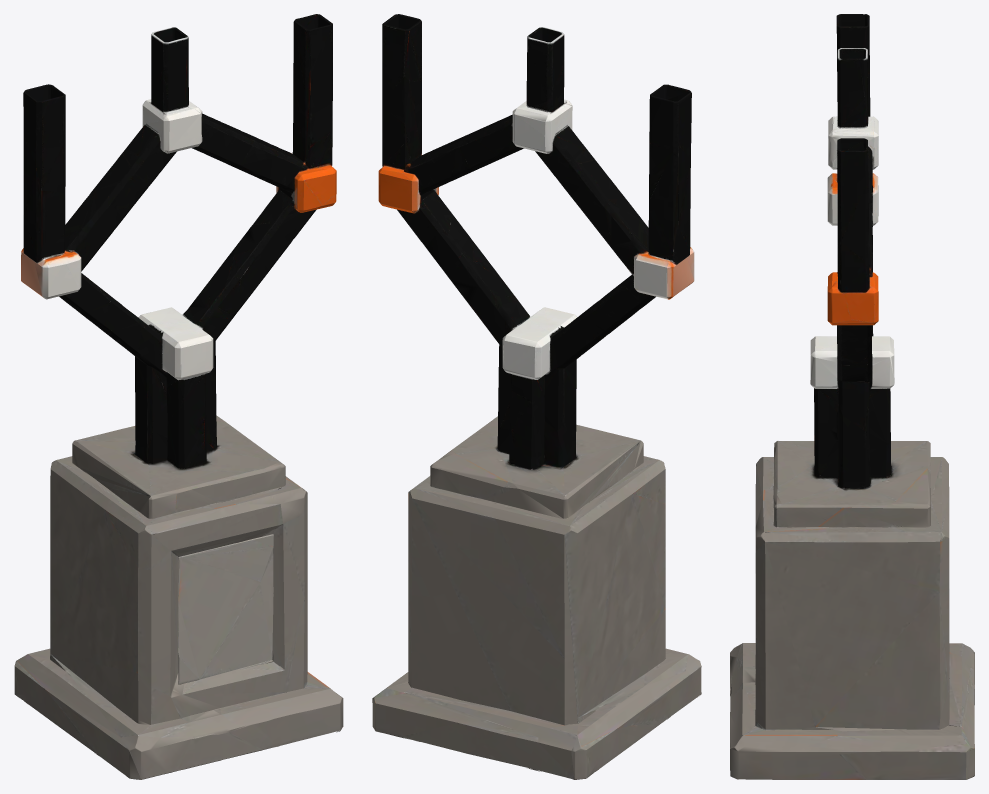
File: github.glb
3 renders of one model, left to right at view 1: azimuth 30°, elevation 25°; view 2: azimuth 150°, elevation 25°; view 3: azimuth 270°, elevation 25°, orthographic.
Bounding box in the file's own units: 0.873 × 1.9 × 0.6292.
1 material, 1 textured.
